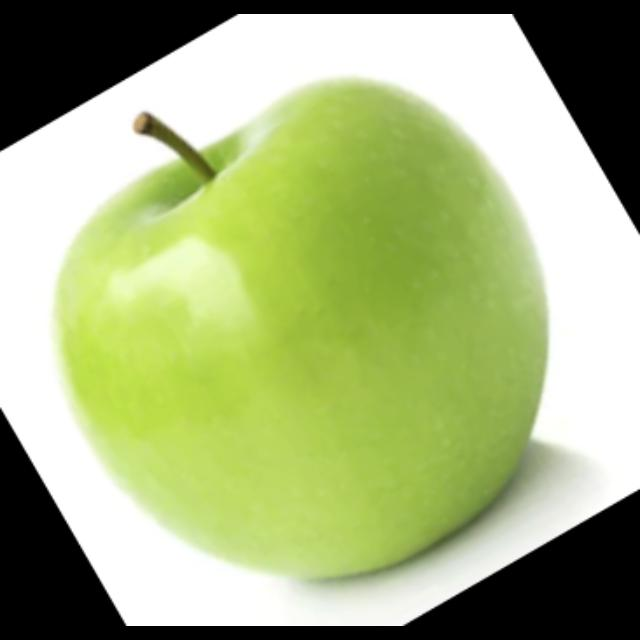Apel Segar: (54, 74, 551, 585)
